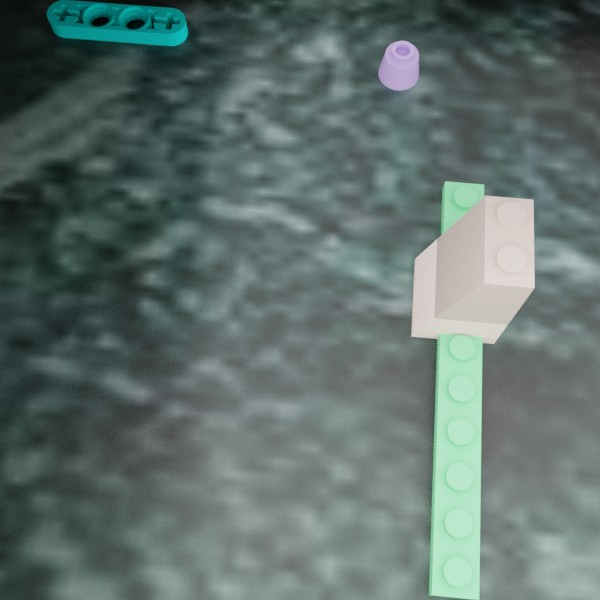lego: (428, 181, 484, 600), (411, 195, 534, 343), (46, 0, 187, 45), (378, 40, 418, 90)
